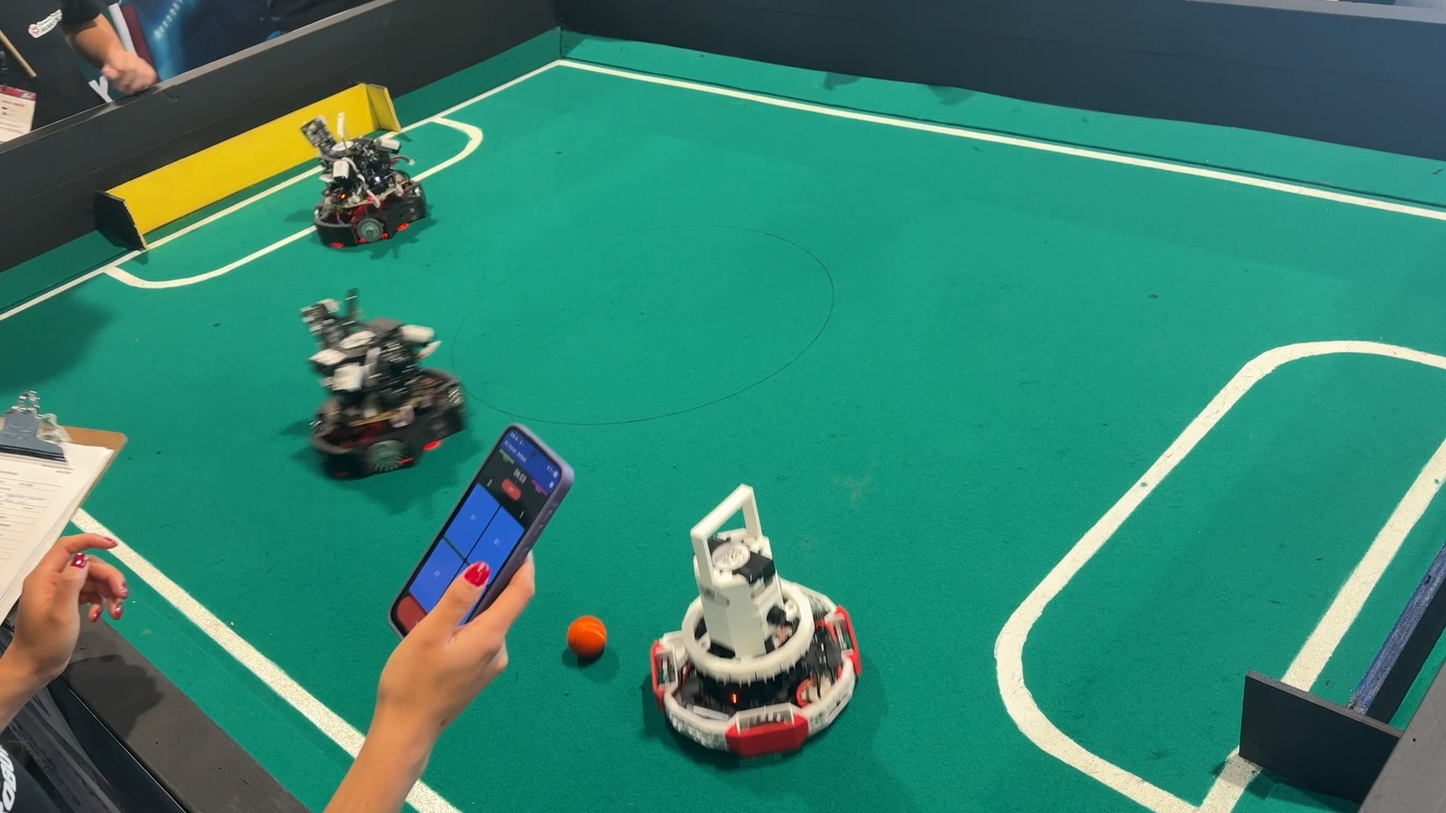Robot: (648, 477, 863, 774), (289, 290, 478, 489), (287, 82, 452, 265)
pelota: (562, 611, 610, 669)
